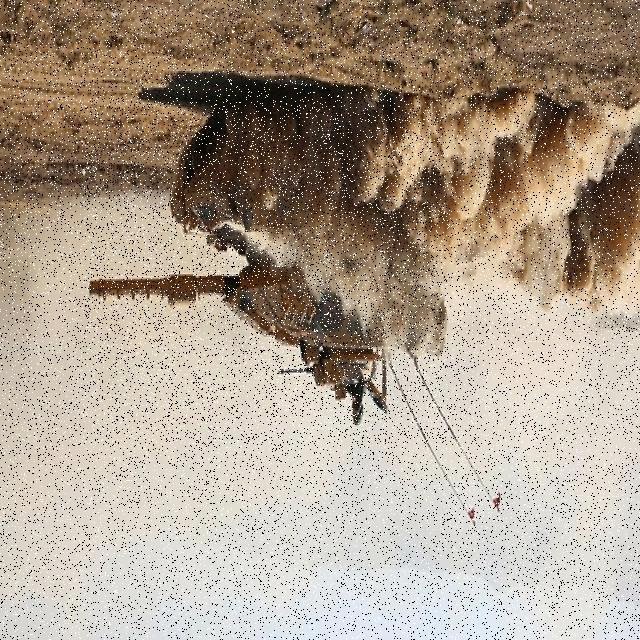MIL_MBT: (85, 102, 445, 444)
